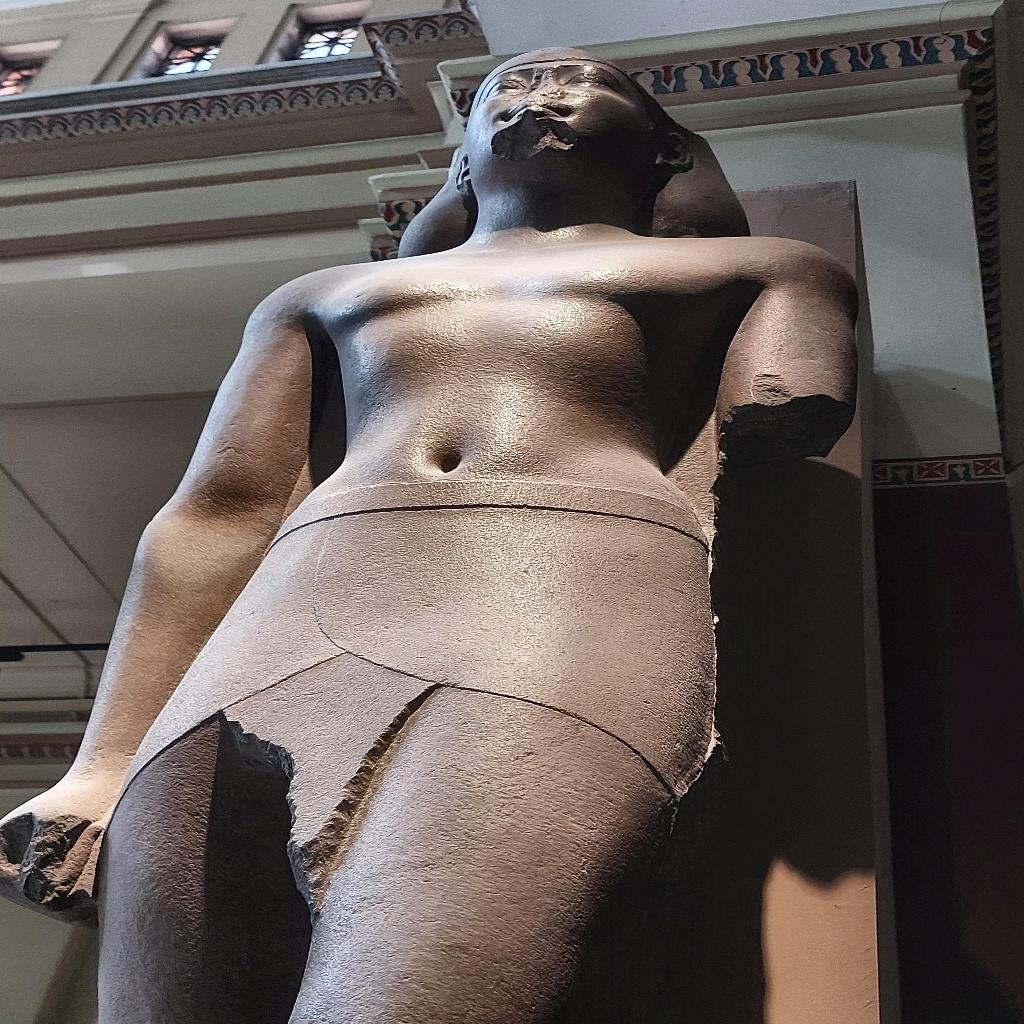Colossal Statue of Hormoheb: (6, 44, 865, 1019)
